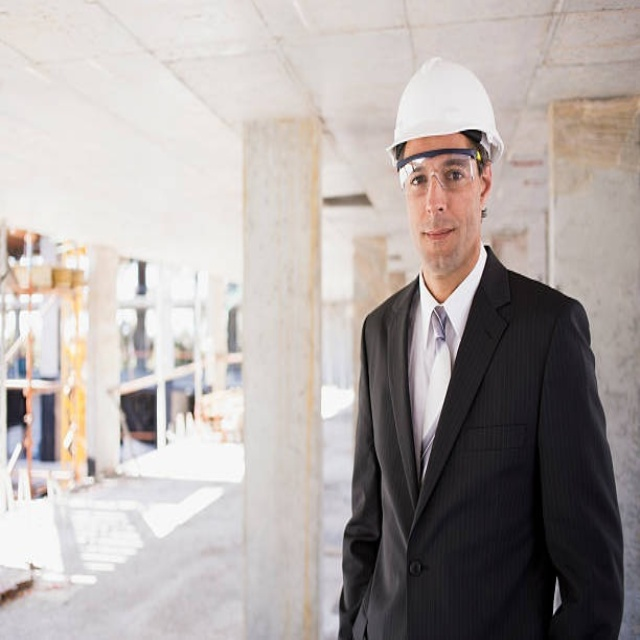Gafas: (397, 153, 483, 196)
Sin_mascara: (417, 219, 464, 263)
